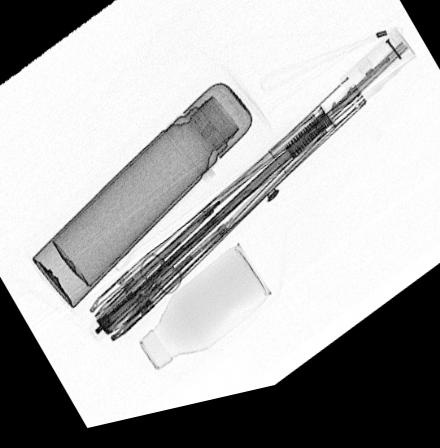Scissors: (113, 258, 183, 327)
